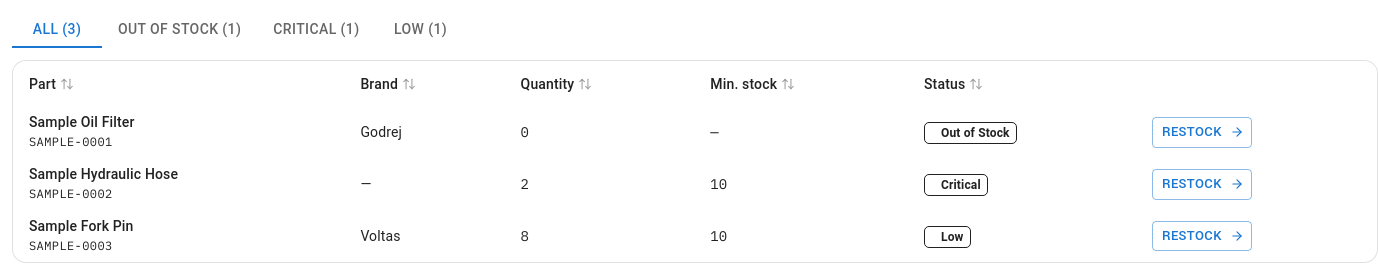
Scenario: LowStockTable › filters to just the selected status via the tabs
The width and height of the screenshot is (1378, 280).
Click the tab "Critical (1)".
click(316, 30)  # box [257,12,376,48]
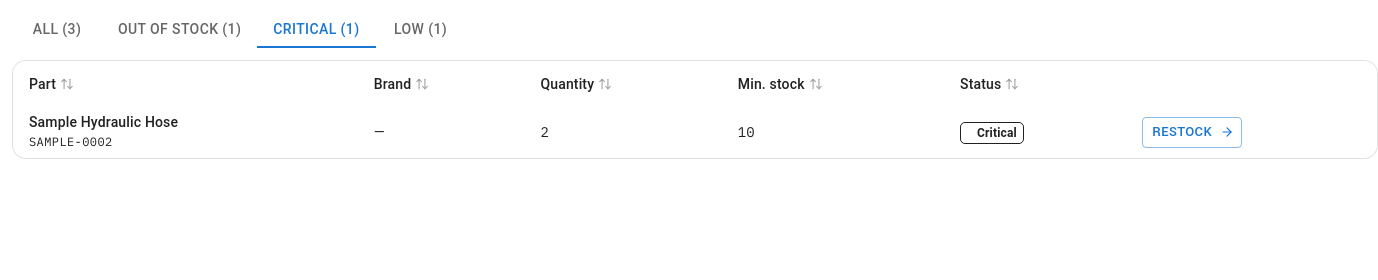
Expected: the text "Sample Hydraulic Hose" is shown, [29,114,178,130]
Now the text "Sample Oil Filter" is gone
Now the text "Sample Fork Pin" is gone
